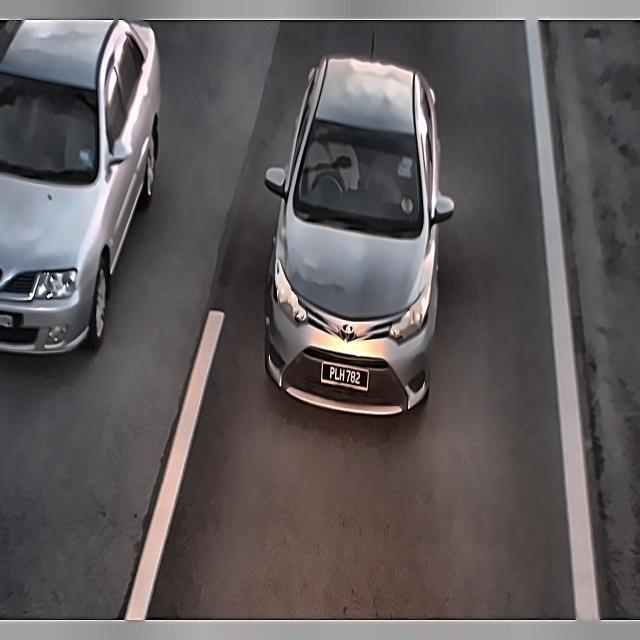car: (319, 355, 374, 398), (0, 302, 22, 343)
